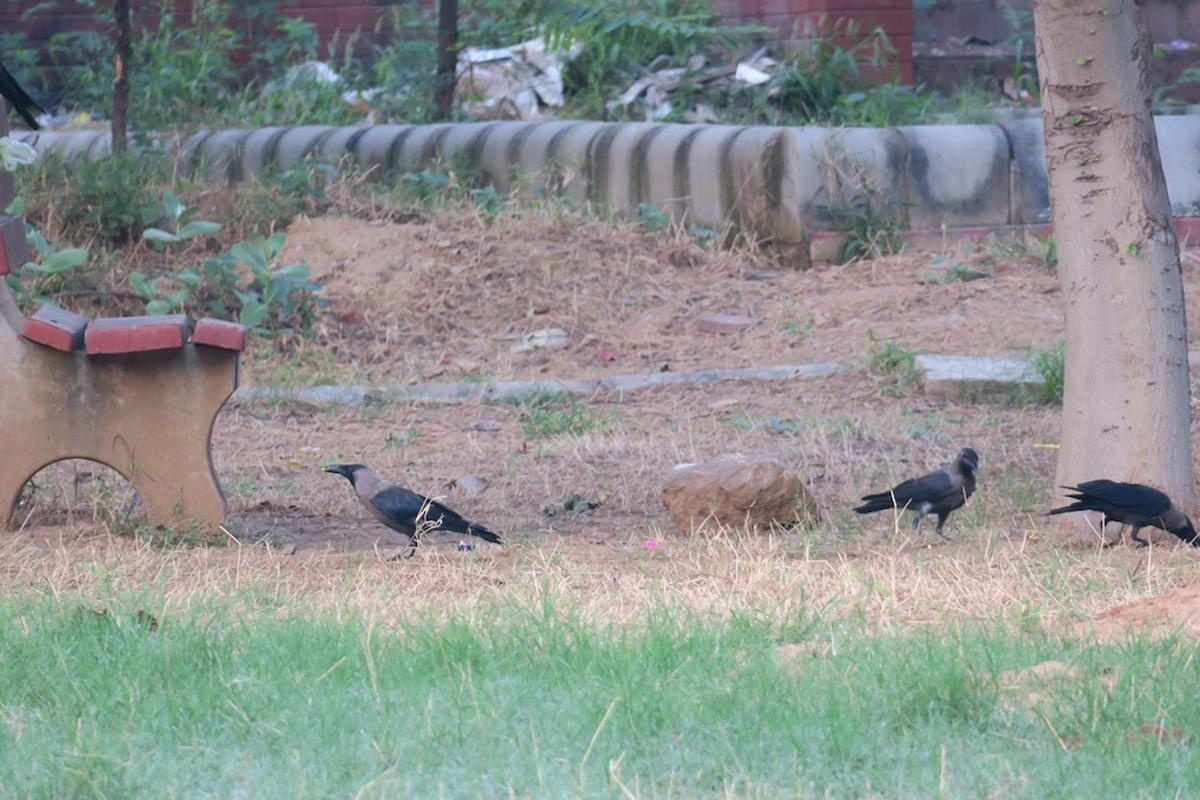crow: (323, 455, 502, 565), (855, 442, 994, 536), (1049, 472, 1200, 553)
